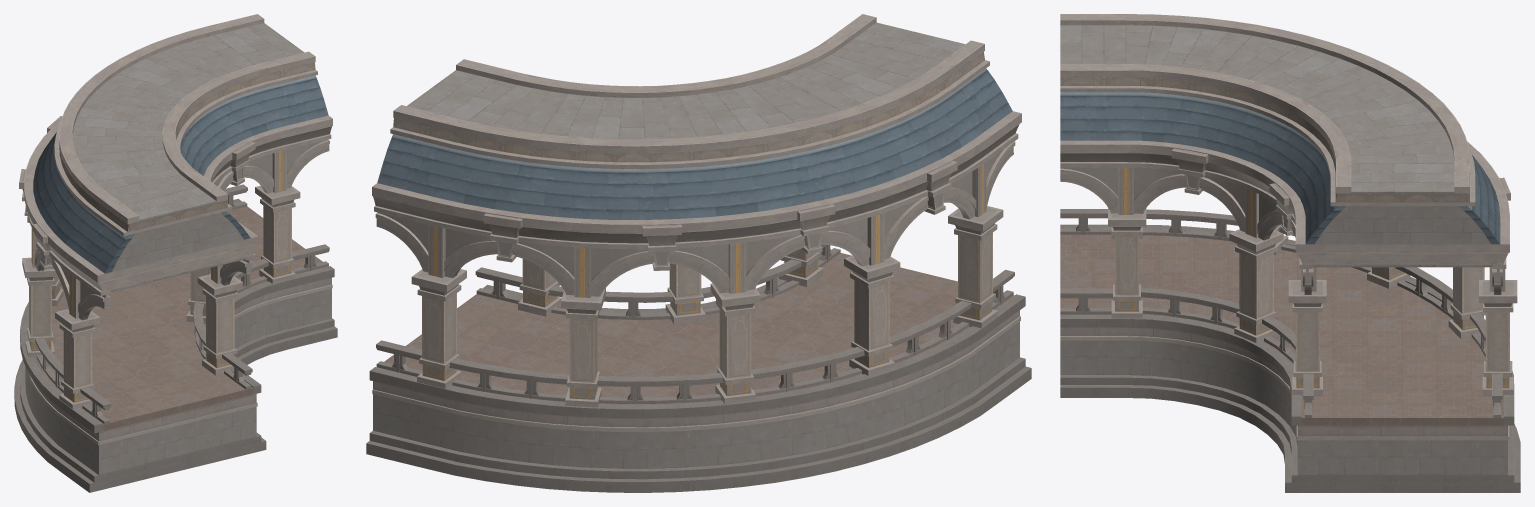
Rendered from Homeworld_Exterior_Fd_Build_House_03_Lod0.fbx.
3 renders of one model, left to right at view 1: azimuth 30°, elevation 25°; view 2: azimuth 150°, elevation 25°; view 3: azimuth 270°, elevation 25°, orthographic. The views are drawn at different scales.
Parts seen in each view (by area): view 1: Homeworld_Exterior_Fd_Build_House_03_Lod0; view 2: Homeworld_Exterior_Fd_Build_House_03_Lod0; view 3: Homeworld_Exterior_Fd_Build_House_03_Lod0.
Boxes of the visible parts, bbox=[...] form: Homeworld_Exterior_Fd_Build_House_03_Lod0: bbox=[14, 14, 337, 492]; Homeworld_Exterior_Fd_Build_House_03_Lod0: bbox=[366, 14, 1031, 492]; Homeworld_Exterior_Fd_Build_House_03_Lod0: bbox=[1060, 14, 1520, 492].
Size of what is drawn, in the model's own units: 12.29 by 9.01 by 12.29.
